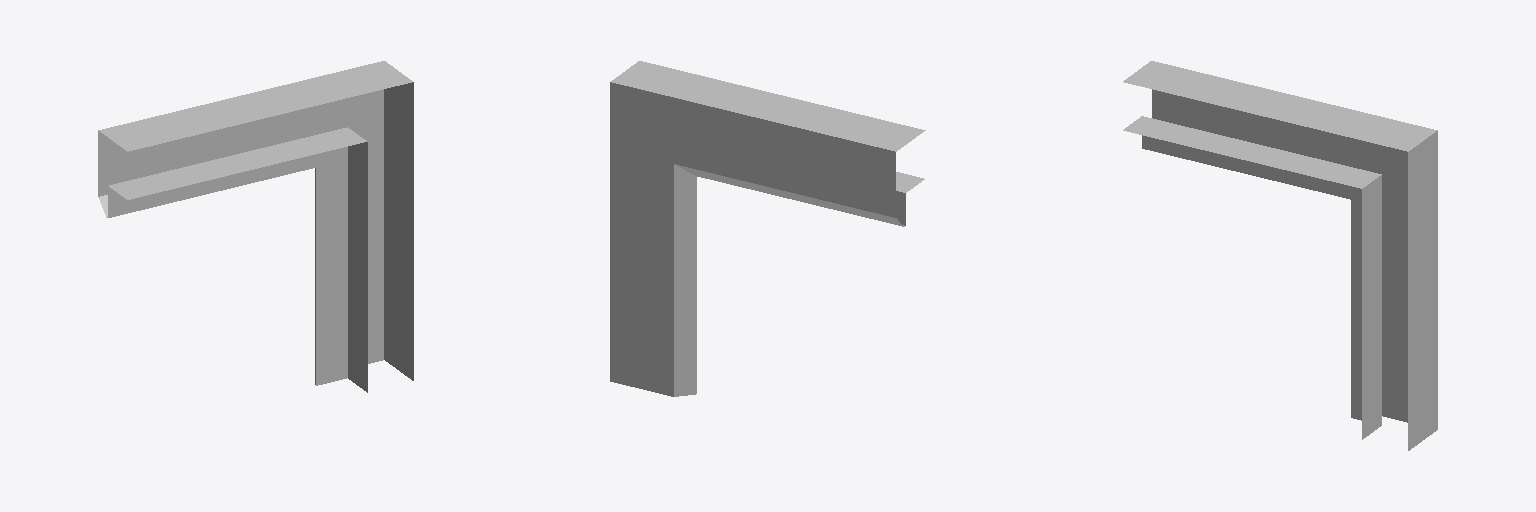
File: original-180.obj
The picture shows the model from 3 angles: view 1: azimuth 30°, elevation 25°; view 2: azimuth 150°, elevation 25°; view 3: azimuth 330°, elevation 25°; orthographic projection.
Visible parts, largest first — view 1: #ID1052; view 2: #ID1052; view 3: #ID1052.
Part boxes in pixels (x1,y1,x2,y2): #ID1052: (98,61,413,392); #ID1052: (610,61,925,396); #ID1052: (1123,61,1437,450).
Bounding box in the file's own units: 0.1274 × 0.1274 × 0.0226.